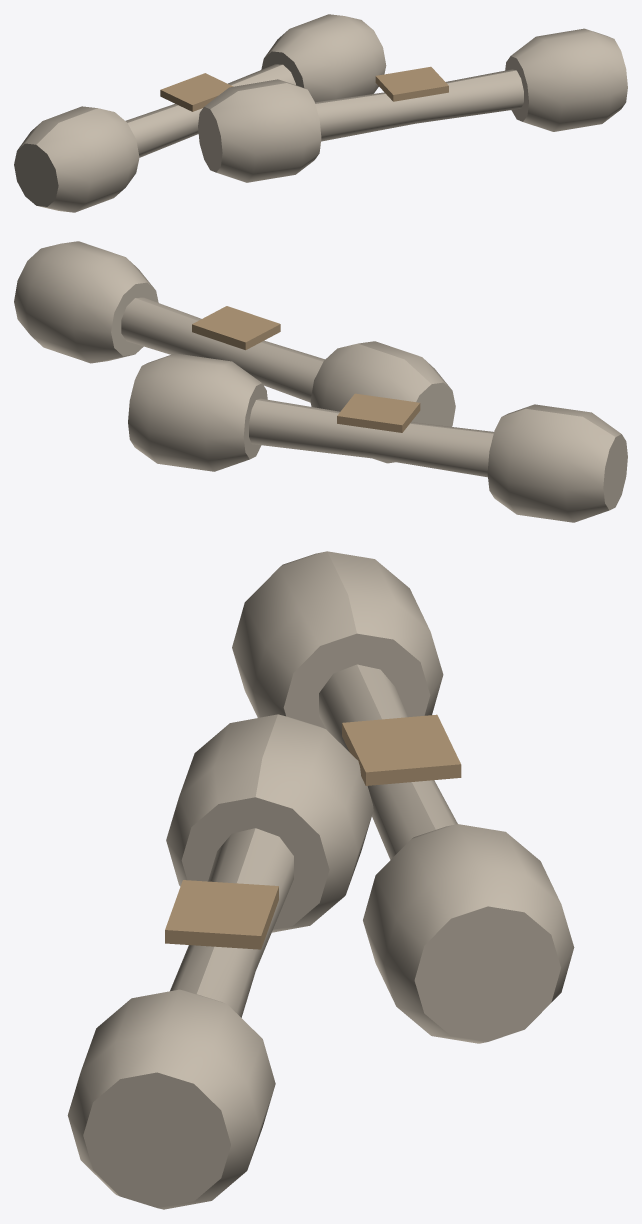
Rendered from roman-bathhouse-and-palaestra-halteres-pair-05e57771__37907.glb.
3 views of the same model, one above another, from view 1: azimuth 30°, elevation 25°; view 2: azimuth 150°, elevation 25°; view 3: azimuth 270°, elevation 25° (orthographic). The views are drawn at different scales.
Visible parts, largest first — view 1: halteres-pair; view 2: halteres-pair; view 3: halteres-pair.
Boxes of the visible parts, x1,y1,x2,y2 form: halteres-pair: [14, 14, 627, 212]; halteres-pair: [14, 241, 627, 522]; halteres-pair: [67, 551, 574, 1209].
Size of the model in its own units: 1.69 by 0.2601 by 0.677.
